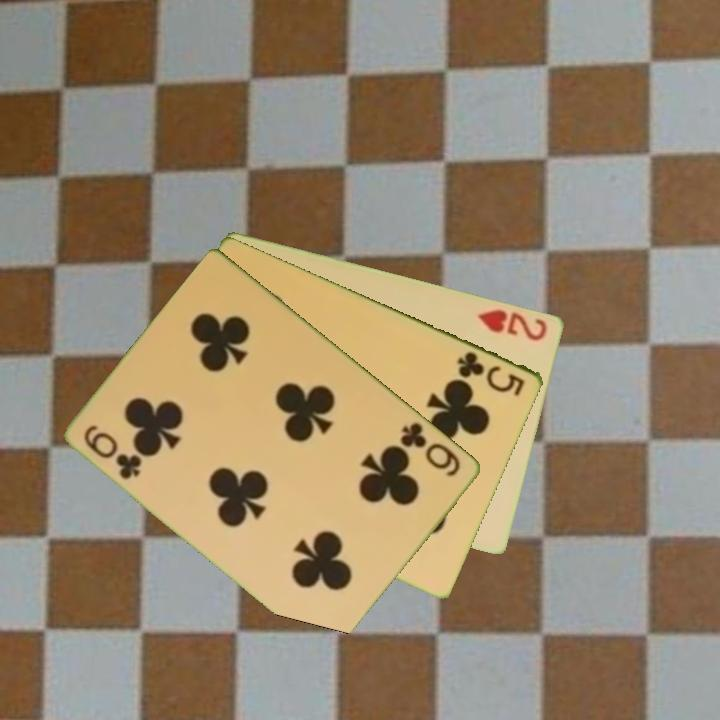2h: (475, 305, 550, 344)
5c: (454, 347, 528, 399)
6c: (397, 418, 464, 480), (80, 421, 146, 482)
